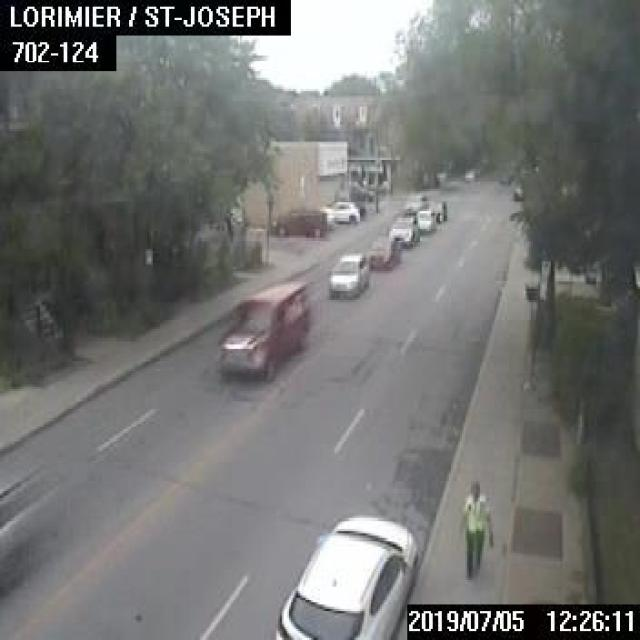pedestrian: (456, 480, 494, 578)
vehicle: (273, 511, 416, 638), (217, 281, 306, 382), (328, 252, 368, 296), (270, 209, 326, 237), (367, 234, 399, 268), (388, 215, 419, 245), (319, 199, 358, 222), (348, 180, 373, 201), (404, 192, 426, 214), (414, 208, 434, 229), (428, 198, 445, 220), (512, 182, 522, 198), (463, 168, 475, 179)
